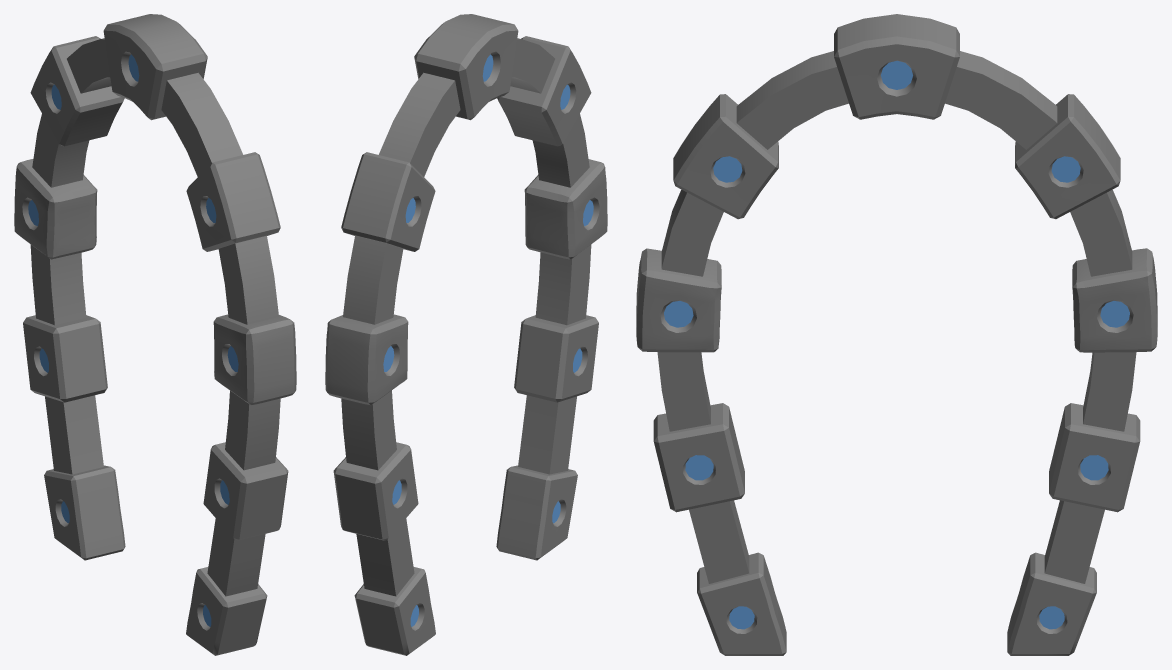
Rendered from PortalGateCyberpunk_03.fbx.
3 views of the same model, side by side, from view 1: azimuth 30°, elevation 25°; view 2: azimuth 150°, elevation 25°; view 3: azimuth 270°, elevation 25° (orthographic). The views are drawn at different scales.
Parts seen in each view (by area): view 1: Circle.008; view 2: Circle.008; view 3: Circle.008.
Part boxes in pixels (x1,y1,x2,y2): Circle.008: (14,14,296,655); Circle.008: (325,14,607,655); Circle.008: (636,14,1157,655).
Size of the model in its own units: 0.2897 by 3.04 by 2.31.
